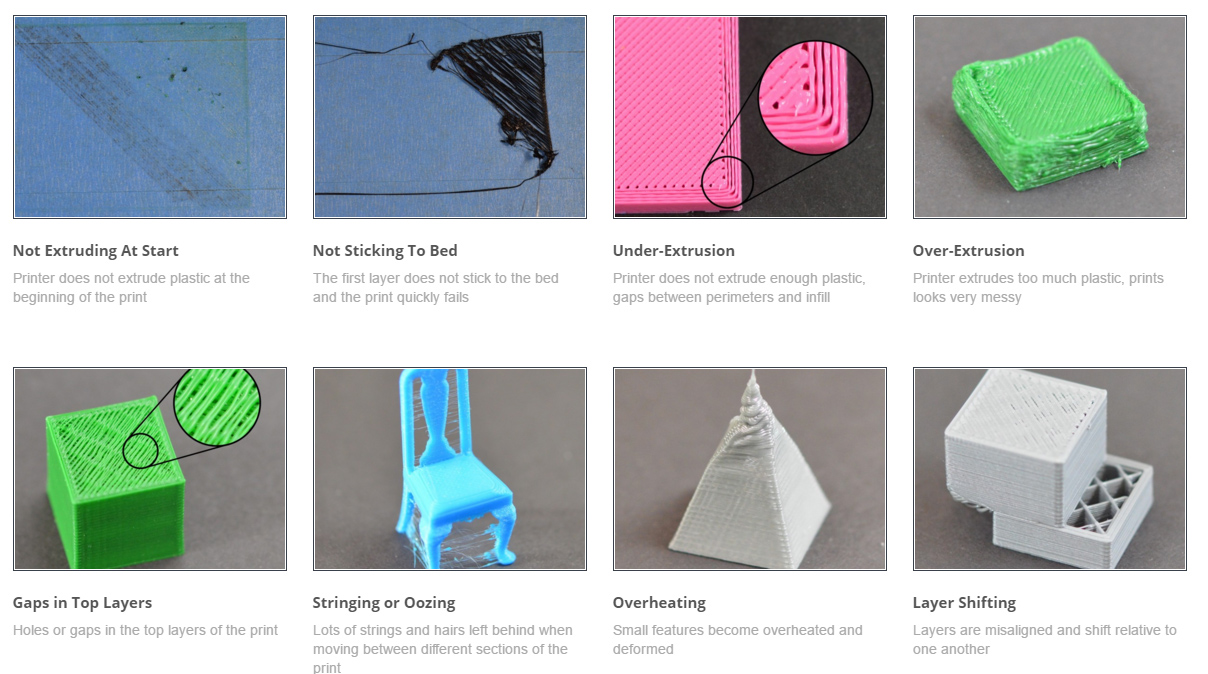3dplayershift: (1020, 503, 1090, 547)
3dpoverextrusion: (1005, 107, 1070, 193), (945, 54, 1025, 116), (1059, 45, 1139, 105), (1094, 100, 1160, 165)
3dpoverheat: (706, 377, 813, 476)
3dpstringing: (947, 485, 1002, 526), (464, 527, 516, 566), (387, 525, 436, 566), (402, 406, 442, 447)
3dptoplayergaps: (42, 409, 107, 454), (194, 387, 258, 430), (65, 482, 129, 519), (145, 469, 185, 495)
3dpunderextrusion: (775, 69, 860, 148)
